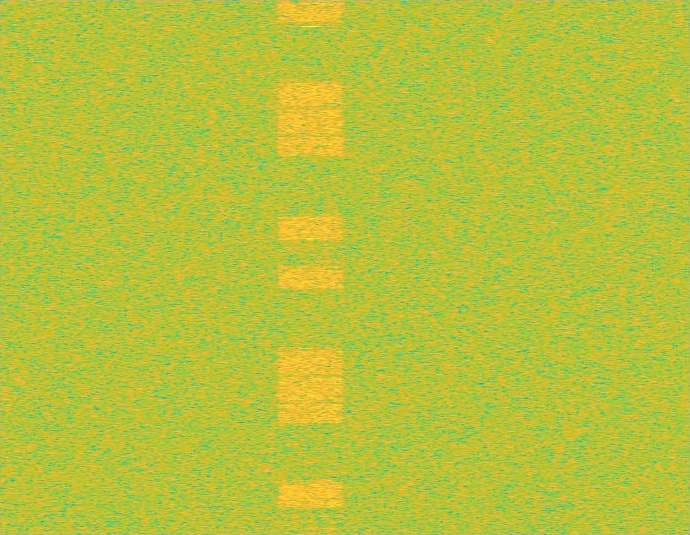LTE: (276, 0, 345, 534)
Radar: (304, 0, 318, 534)
